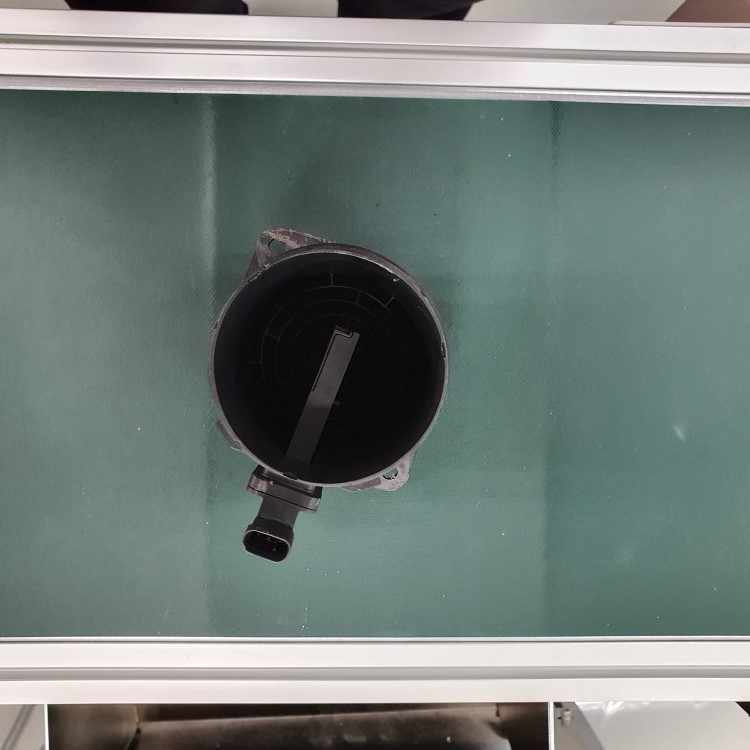ok: (204, 225, 450, 564)
